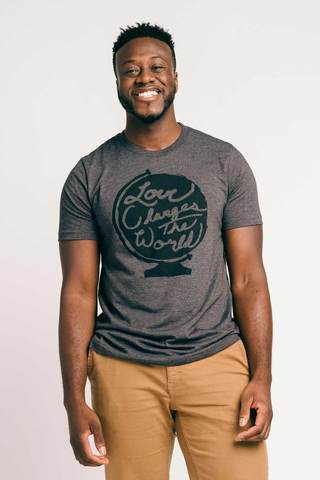NOTSAFE: (93, 21, 230, 343)
